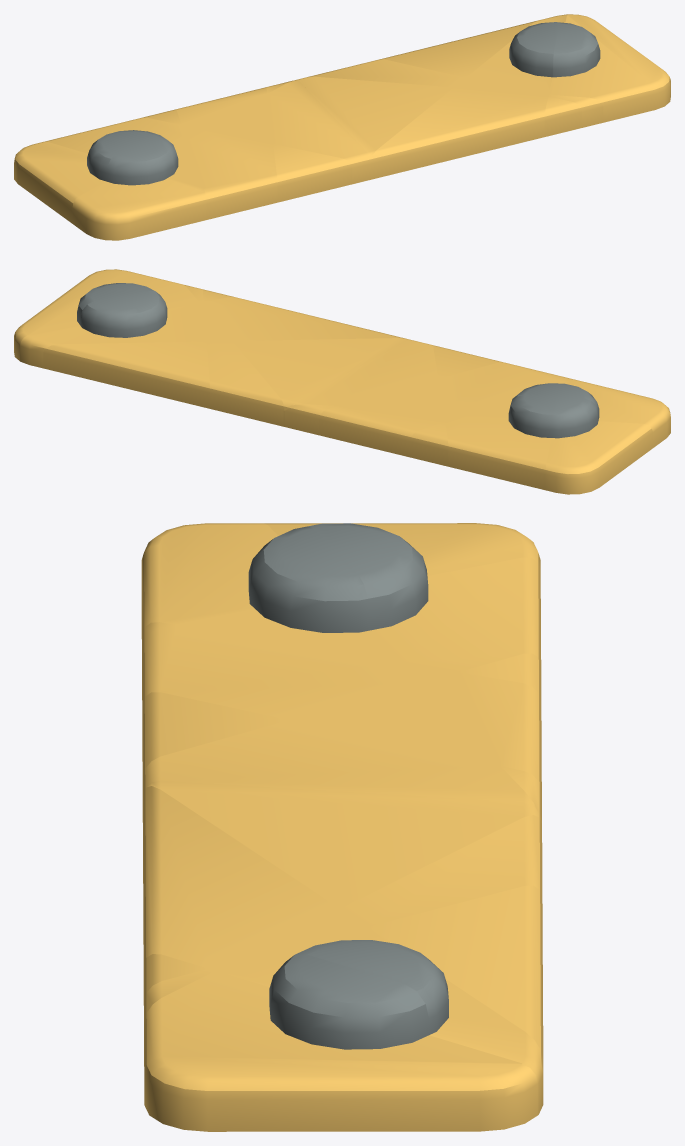
Rendered from Wooden broken plank 111.fbx.
3 renders of one model, top to bottom at view 1: azimuth 30°, elevation 25°; view 2: azimuth 150°, elevation 25°; view 3: azimuth 270°, elevation 25°, orthographic. The views are drawn at different scales.
Parts seen in each view (by area): view 1: Cube.049, Cube.003, Cube.023, Cube.048, Cube.041, Cube.020, Cube.046, Cube.058, Cube.047, Cube.054, Cube.053, Cube.022 (+6 smaller); view 2: Cube.054, Cube.022, Cube.020, Cube.058, Cube.048, Cube.049, Cube.023, Cube.046, Cube.053, Cube.042, Cube.041, Cube.003 (+6 smaller); view 3: Cube.023, Cube.048, Cube.049, Cube.022, Cube.046, Cube.041, Cube.054, Cube.003, Cube.058, Cube.039, Cube.053, Cube.042 (+7 smaller).
Part boxes in pixels (left/top/right/bottom): Cube.049: left=370, top=87, right=548, bottom=179; Cube.003: left=72, top=145, right=206, bottom=240; Cube.023: left=549, top=14, right=670, bottom=122; Cube.048: left=297, top=76, right=453, bottom=158; Cube.041: left=186, top=129, right=277, bottom=219; Cube.020: left=14, top=137, right=132, bottom=223; Cube.046: left=267, top=79, right=370, bottom=184; Cube.058: left=466, top=14, right=567, bottom=94; Cube.047: left=273, top=144, right=352, bottom=202; Cube.054: left=380, top=21, right=536, bottom=77; Cube.053: left=308, top=59, right=465, bottom=87; Cube.022: left=45, top=117, right=185, bottom=153; Cube.054: left=43, top=341, right=209, bottom=408; Cube.022: left=445, top=395, right=555, bottom=490; Cube.020: left=545, top=396, right=652, bottom=494; Cube.058: left=20, top=290, right=206, bottom=368; Cube.048: left=232, top=338, right=410, bottom=426; Cube.049: left=200, top=297, right=406, bottom=340; Cube.023: left=14, top=269, right=199, bottom=360; Cube.046: left=292, top=340, right=438, bottom=405; Cube.053: left=206, top=341, right=284, bottom=426; Cube.042: left=319, top=406, right=444, bottom=457; Cube.041: left=438, top=362, right=574, bottom=413; Cube.003: left=556, top=379, right=670, bottom=447; Cube.023: left=144, top=954, right=537, bottom=1131; Cube.048: left=146, top=780, right=540, bottom=908; Cube.049: left=143, top=786, right=339, bottom=970; Cube.022: left=335, top=539, right=541, bottom=672; Cube.046: left=142, top=720, right=535, bottom=822; Cube.041: left=142, top=622, right=419, bottom=719; Cube.054: left=368, top=885, right=543, bottom=1058; Cube.003: left=141, top=523, right=333, bottom=638; Cube.058: left=216, top=927, right=543, bottom=1115; Cube.039: left=178, top=550, right=399, bottom=662; Cube.053: left=340, top=815, right=542, bottom=926; Cube.042: left=420, top=672, right=541, bottom=790.
Size of the model in its own units: 26.23 by 1.98 by 7.86.
